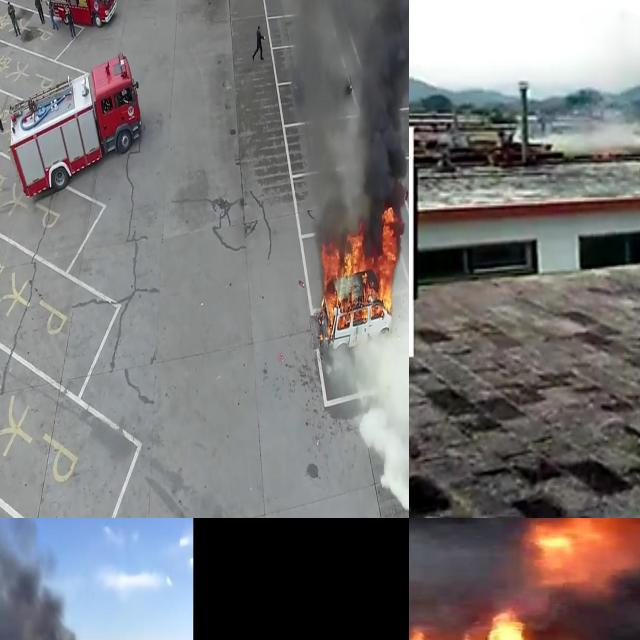fire: (317, 205, 401, 333), (525, 518, 640, 584), (409, 612, 565, 640)
smoke: (292, 0, 409, 205), (409, 518, 519, 628), (0, 518, 76, 640), (549, 112, 640, 149)
